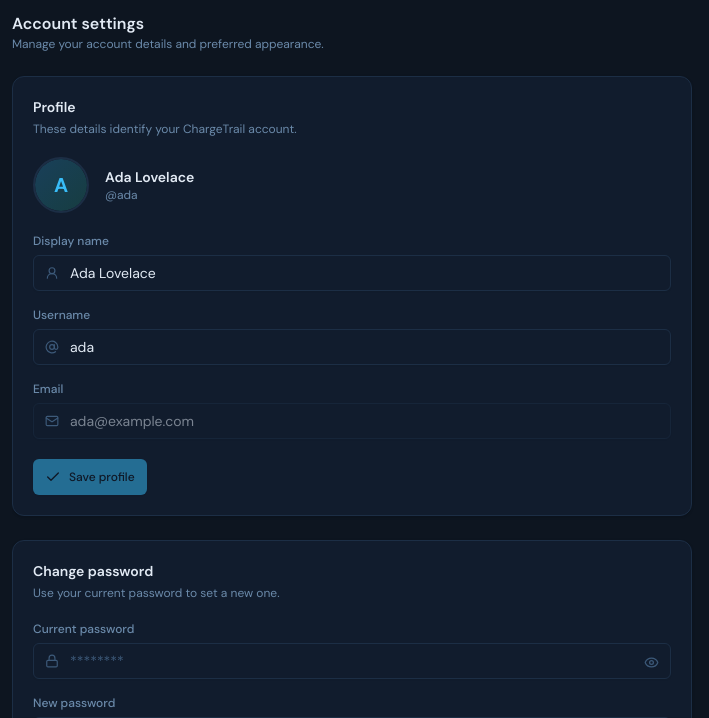
SettingsPage › shows profile save errors
Replace the text in the field labelled "Username" with "ada-2": (352, 347) [33,329,671,365]
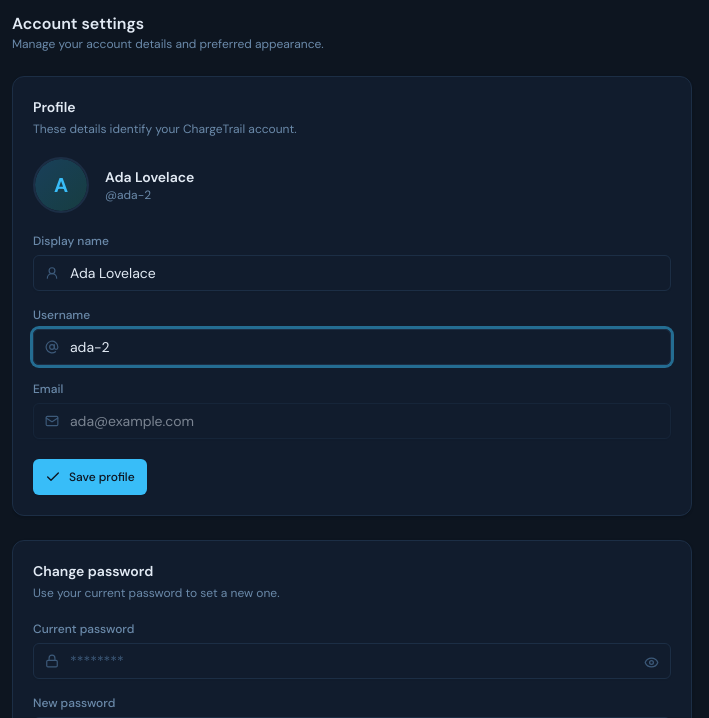
Click the button "Save profile": (90, 477) [33,459,147,495]
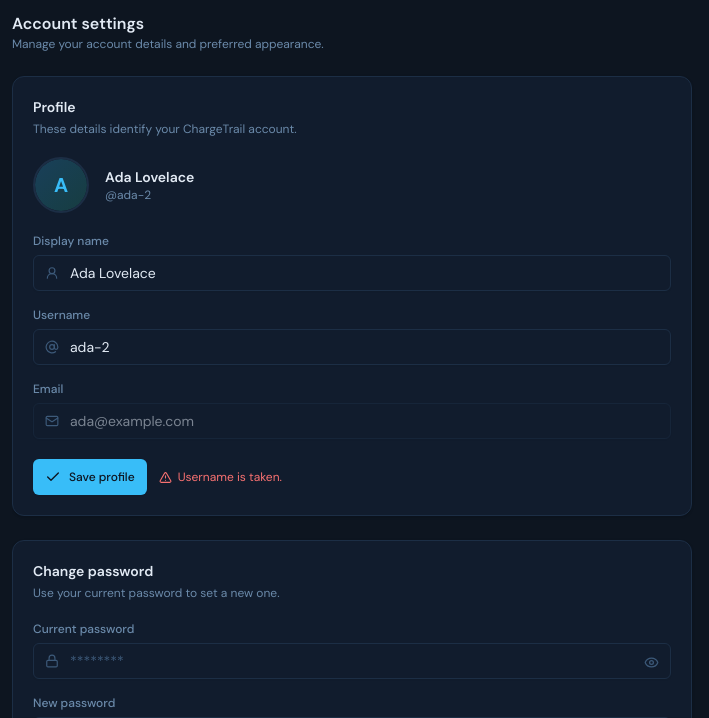
expect the text "Username is taken." is shown: met, box [159,469,282,485]
